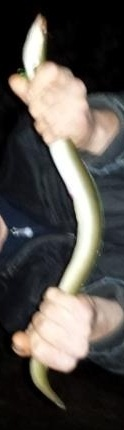Anguilla anguilla: (20, 10, 104, 410)
